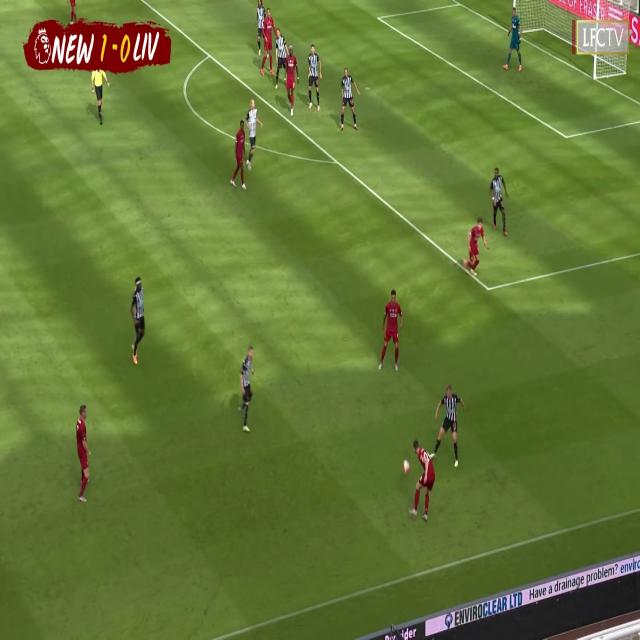Ball: (399, 456, 413, 476)
GoalKeeper: (502, 8, 525, 74)
TEAM 1: (410, 437, 438, 523), (378, 289, 406, 373), (74, 396, 92, 506), (465, 217, 491, 274), (229, 119, 248, 186), (260, 4, 276, 81), (285, 52, 299, 115), (65, 0, 79, 26)
TEAM 2: (431, 384, 465, 467), (123, 264, 146, 374), (237, 343, 258, 439), (339, 69, 361, 131), (491, 169, 509, 236), (306, 43, 322, 110), (246, 96, 260, 172), (276, 26, 291, 89), (253, 0, 266, 56)
